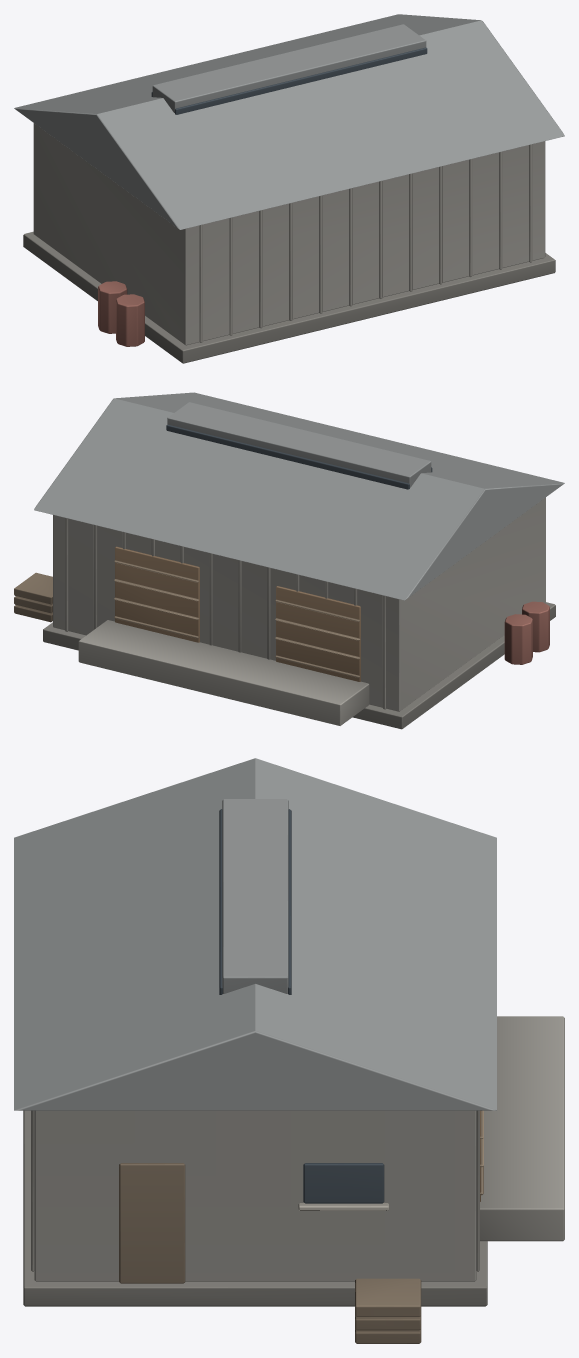
Rendered from civilian_warehouse.glb.
3 views of the same model, one above another, from view 1: azimuth 30°, elevation 25°; view 2: azimuth 150°, elevation 25°; view 3: azimuth 270°, elevation 25° (orthographic). The views are drawn at different scales.
Visible parts, largest first — view 1: Body; view 2: Body; view 3: Body.
Boxes of the visible parts, x1,y1,x2,y2 form: Body: (14, 14, 564, 363); Body: (14, 392, 564, 729); Body: (14, 758, 564, 1343).
Bounding box in the file's own units: 10.34 × 4.3 × 7.48.
